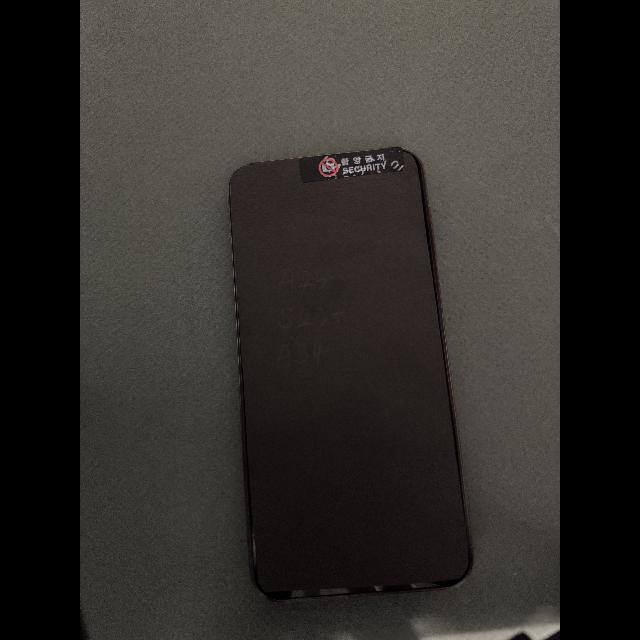phone: (229, 146, 472, 601)
sticker: (298, 147, 406, 184)
